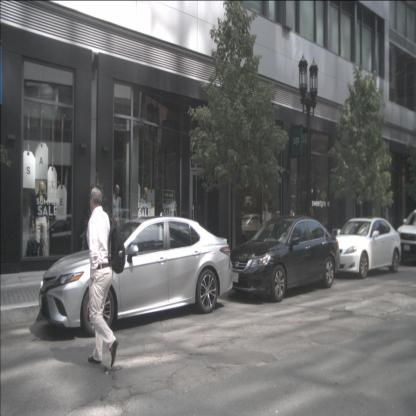human-pedestrian-adult: (86, 187, 126, 368)
vehicle-car: (39, 216, 233, 337), (226, 216, 340, 302), (25, 214, 124, 275), (329, 216, 402, 279), (236, 214, 278, 246), (395, 208, 416, 266)
